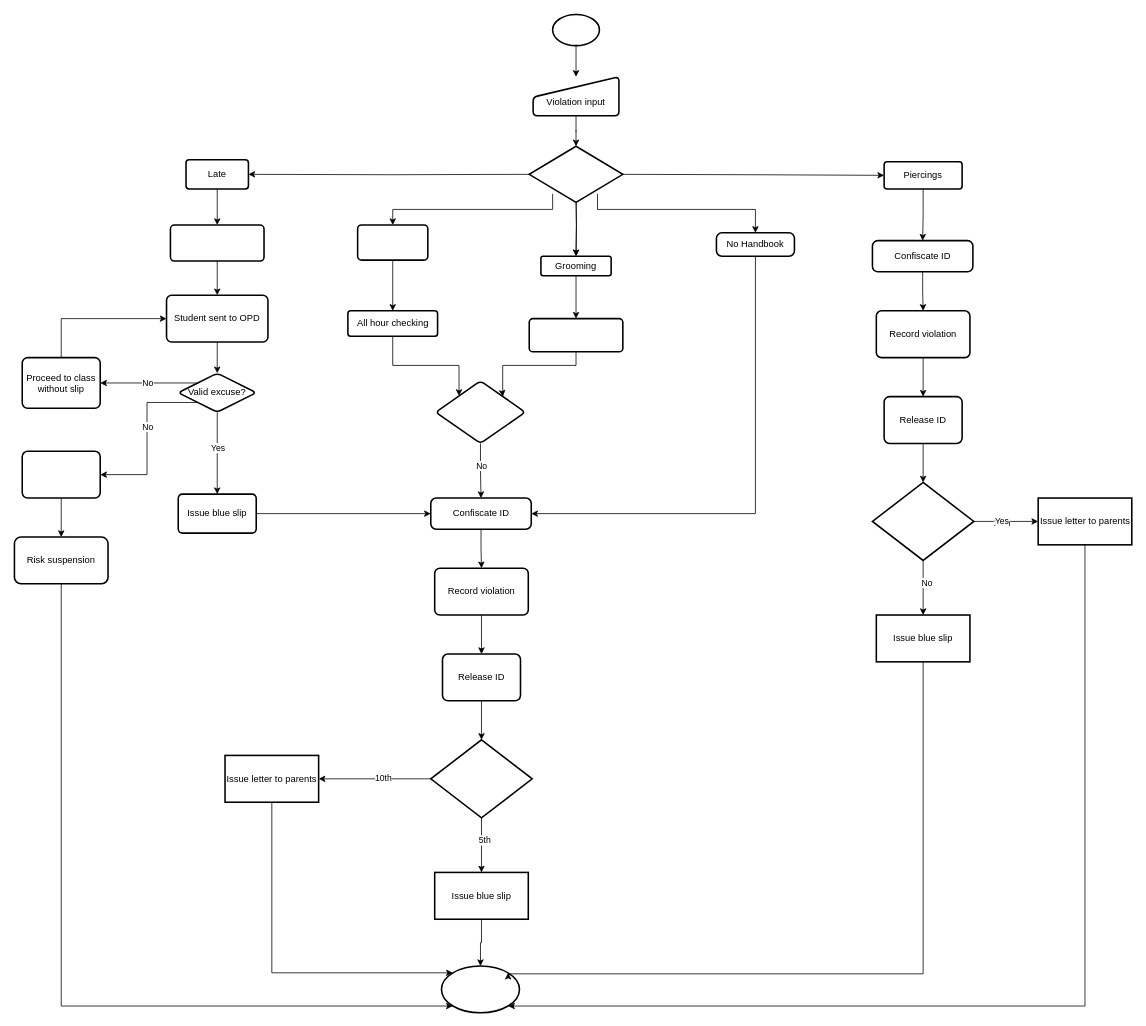
This 1146x1026 diagram has some shape labels left out. The centre of each missing label's shape, as x and y in pixels:
"3rd Offense?" belongs at (x=922, y=521).
"Dress Code" belongs at (x=392, y=242).
"End" belongs at (x=480, y=989).
"Guard blocks entry" belongs at (x=216, y=242).
"Monthly check" belongs at (x=575, y=334).
"Repeat offenses?" belongs at (x=481, y=778).
"Skip class" belongs at (x=61, y=474).
"Start" belongs at (x=575, y=29).
"Valid dress code?" belongs at (x=480, y=412).
"Violation type?" belongs at (x=575, y=174).
